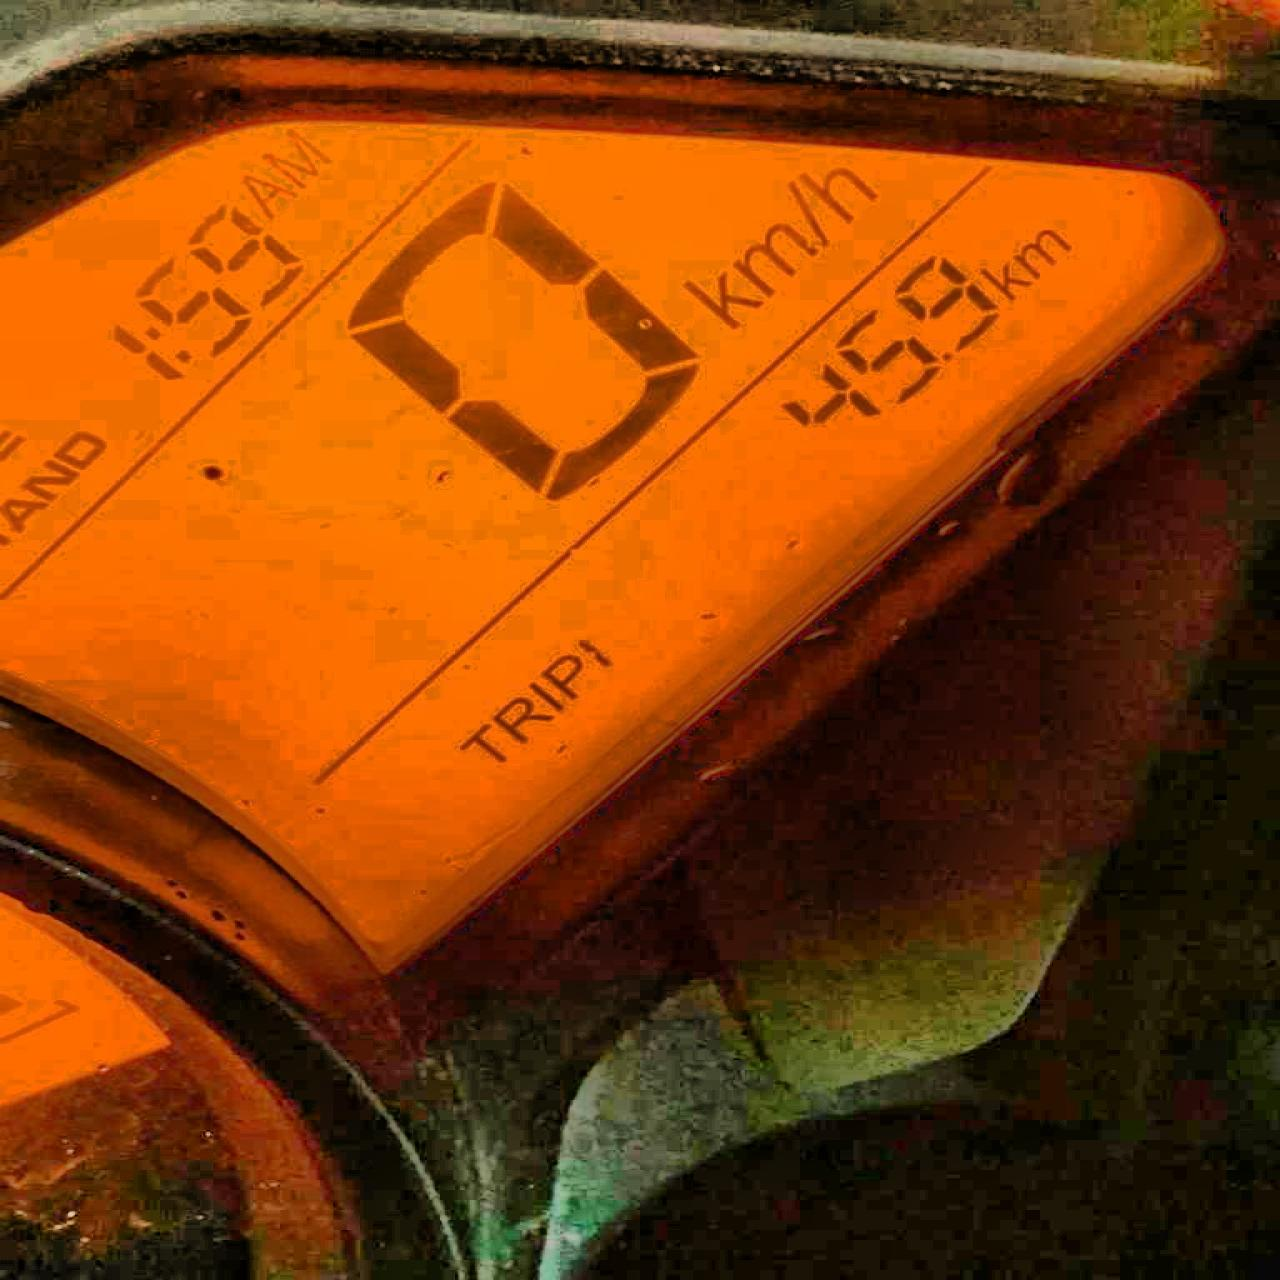-: (938, 347, 955, 365)
0: (345, 182, 695, 503)
1: (108, 325, 182, 381), (576, 638, 610, 667)
4: (778, 362, 877, 429)
5: (134, 258, 248, 356), (832, 309, 935, 402)
9: (184, 203, 299, 305), (890, 258, 996, 348)
X: (731, 222, 811, 297), (797, 163, 876, 222), (683, 272, 760, 328), (261, 128, 325, 188), (491, 696, 551, 742), (1014, 227, 1069, 277), (787, 178, 826, 246), (238, 172, 293, 219), (22, 459, 75, 501), (52, 431, 103, 469), (976, 263, 1028, 300), (143, 324, 192, 362), (458, 723, 505, 761), (540, 654, 580, 697), (0, 497, 45, 529), (529, 681, 561, 709)
odometer: (0, 100, 1241, 993)
